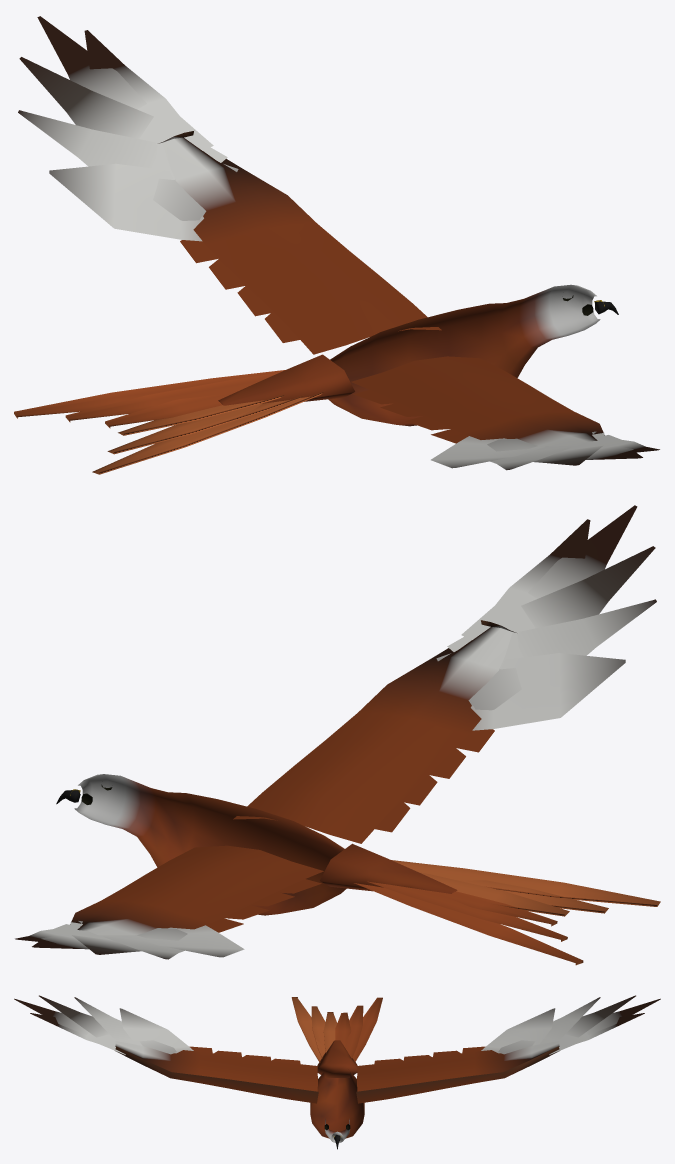
Rendered from SM_Bird_red_kite_flap1_LOD1.glb.
3 views of the same model, one above another, from view 1: azimuth 30°, elevation 25°; view 2: azimuth 150°, elevation 25°; view 3: azimuth 270°, elevation 25° (orthographic). The views are drawn at different scales.
Parts seen in each view (by area): view 1: SM_Bird_red_kite_flap1_LOD1; view 2: SM_Bird_red_kite_flap1_LOD1; view 3: SM_Bird_red_kite_flap1_LOD1.
Part boxes in pixels (x1=…): SM_Bird_red_kite_flap1_LOD1: x1=14, y1=16, x2=659, y2=474; SM_Bird_red_kite_flap1_LOD1: x1=15, y1=505, x2=660, y2=965; SM_Bird_red_kite_flap1_LOD1: x1=14, y1=995, x2=660, y2=1149.
Size of the model in its own units: 0.8093 by 0.2845 by 1.5.
